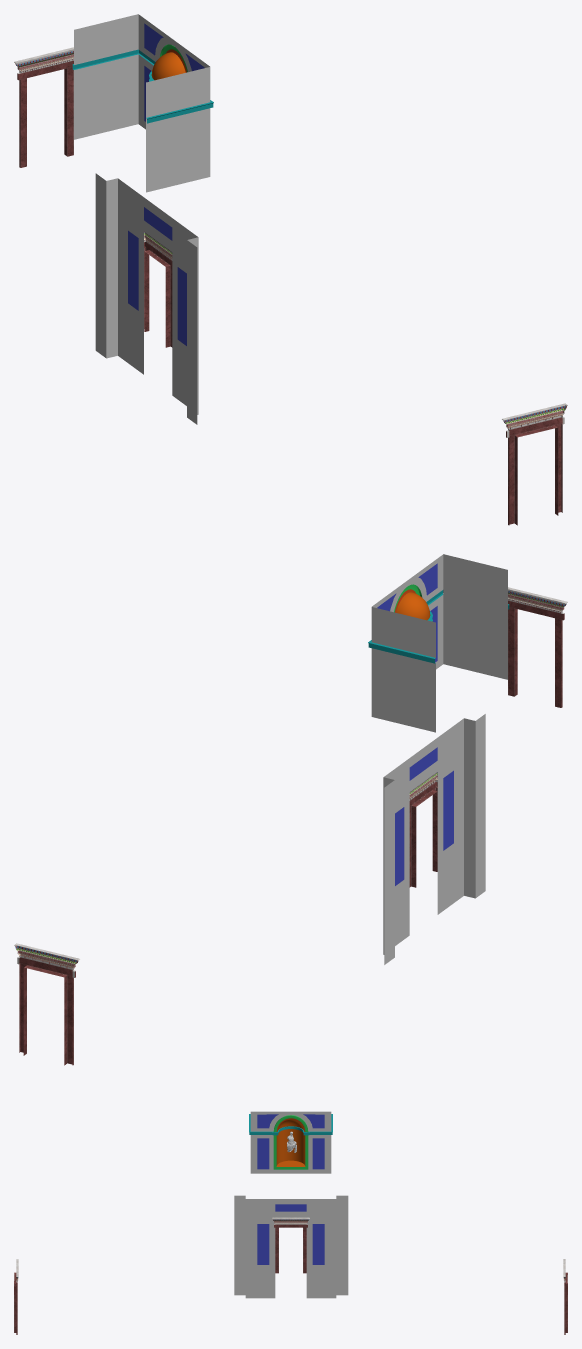
The model's file is Encadrements_grands 1.fbx.
The picture shows the model from 3 angles, top to bottom: view 1: azimuth 30°, elevation 25°; view 2: azimuth 150°, elevation 25°; view 3: azimuth 270°, elevation 25°; orthographic projection. The views are drawn at different scales.
Visible parts, largest first — view 1: Mur_Central, Linteau_Côté_Sud, Linteau_Côté_Nord, Linteau_Central; view 2: Mur_Central, Linteau_Côté_Nord, Linteau_Côté_Sud, Linteau_Central; view 3: Mur_Central, Linteau_Central.
Part boxes in pixels (x1=…): Mur_Central: x1=72, y1=14, x2=213, y2=424; Linteau_Côté_Sud: x1=502, y1=403, x2=567, y2=525; Linteau_Côté_Nord: x1=14, y1=47, x2=73, y2=167; Linteau_Central: x1=143, y1=232, x2=173, y2=347; Mur_Central: x1=368, y1=554, x2=509, y2=964; Linteau_Côté_Nord: x1=14, y1=943, x2=79, y2=1065; Linteau_Côté_Sud: x1=508, y1=587, x2=567, y2=707; Linteau_Central: x1=408, y1=772, x2=438, y2=887; Mur_Central: x1=234, y1=1111, x2=348, y2=1298; Linteau_Central: x1=272, y1=1217, x2=309, y2=1273.
Size of the model in its own units: 1530 by 2337 by 6138.
